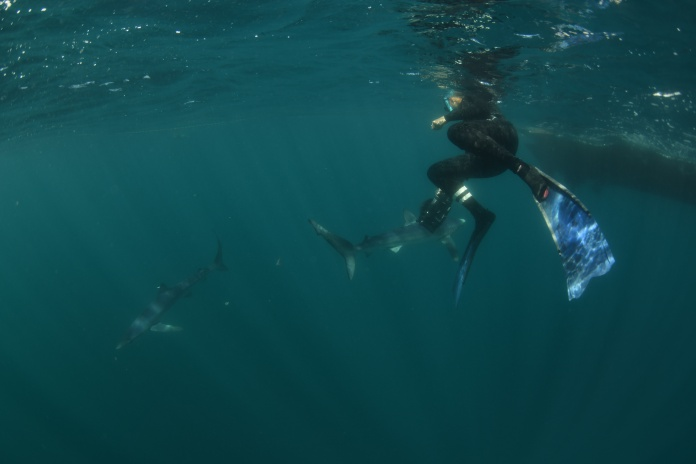Azul: (57, 231, 301, 362)
